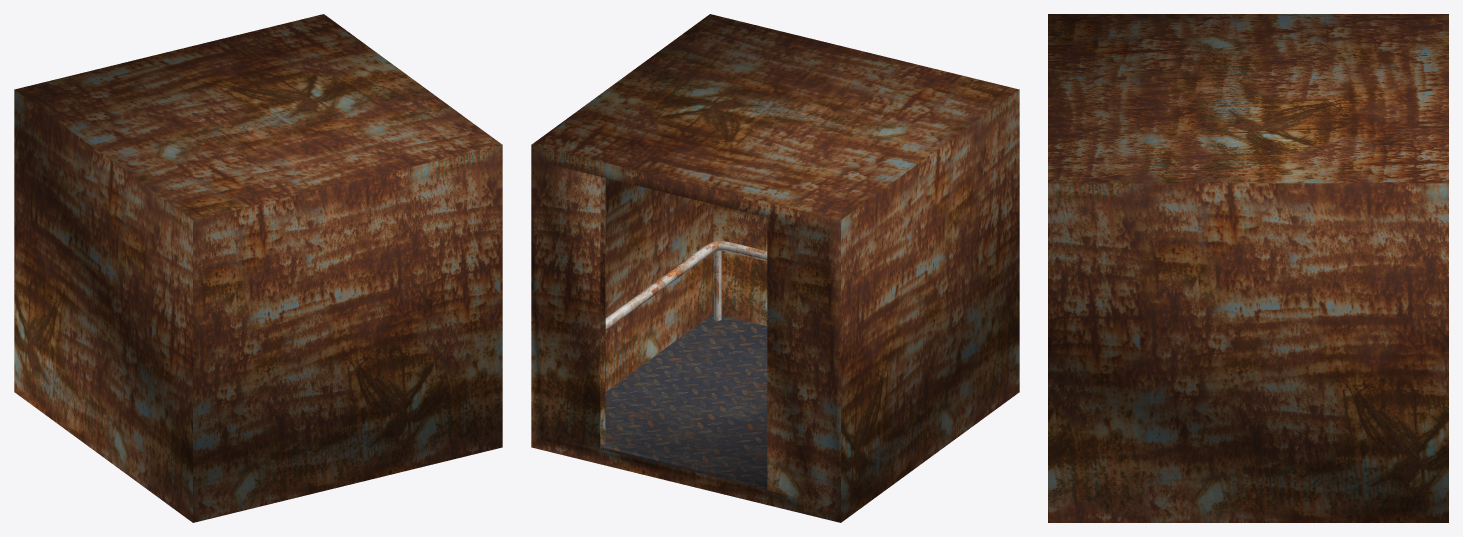
Rendered from elevator.glb.
3 renders of one model, left to right at view 1: azimuth 30°, elevation 25°; view 2: azimuth 150°, elevation 25°; view 3: azimuth 270°, elevation 25°, orthographic. The views are drawn at different scales.
Visible parts, largest first — view 1: Elevator-col; view 2: Elevator-col, ElevatorRailing-col; view 3: Elevator-col.
Part boxes in pixels (bbox=[...]): Elevator-col: bbox=[14, 14, 502, 522]; Elevator-col: bbox=[531, 14, 1019, 522]; ElevatorRailing-col: bbox=[605, 241, 767, 330]; Elevator-col: bbox=[1048, 14, 1448, 522].
Bounding box in the file's own units: 3.2 × 2.99 × 3.2.
Materials: 3 (3 with a texture image).
